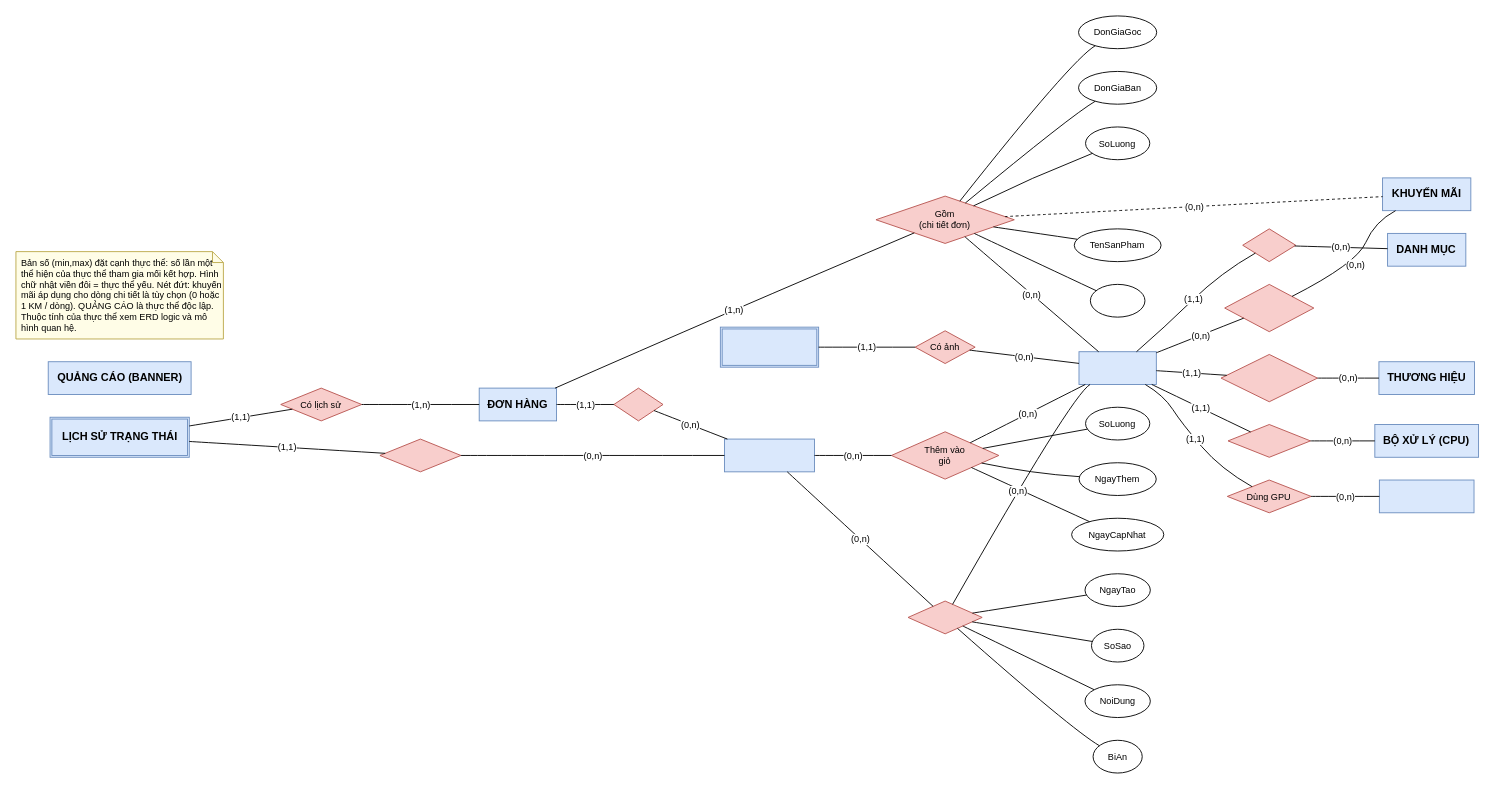
This 1495x789 diagram has some shape labels left out. The box of each missing label's shape, as (x1, y1, x2, y2) in pixels:
CARD ĐỒ HỌA: (1378, 479, 1474, 513)
Do hãng sản xuất: (1220, 354, 1317, 402)
Dùng CPU: (1227, 424, 1310, 457)
HÌNH ẢNH SP: (719, 326, 819, 367)
MaSku: (1089, 283, 1145, 317)
NGƯỜI DÙNG: (724, 438, 815, 472)
SẢN PHẨM: (1078, 351, 1156, 384)
Thuộc: (1242, 228, 1296, 262)
Thực hiện: (379, 438, 461, 472)
Đánh giá: (907, 600, 982, 634)
Được áp dụng: (1224, 283, 1314, 332)
Đặt: (613, 387, 663, 421)
